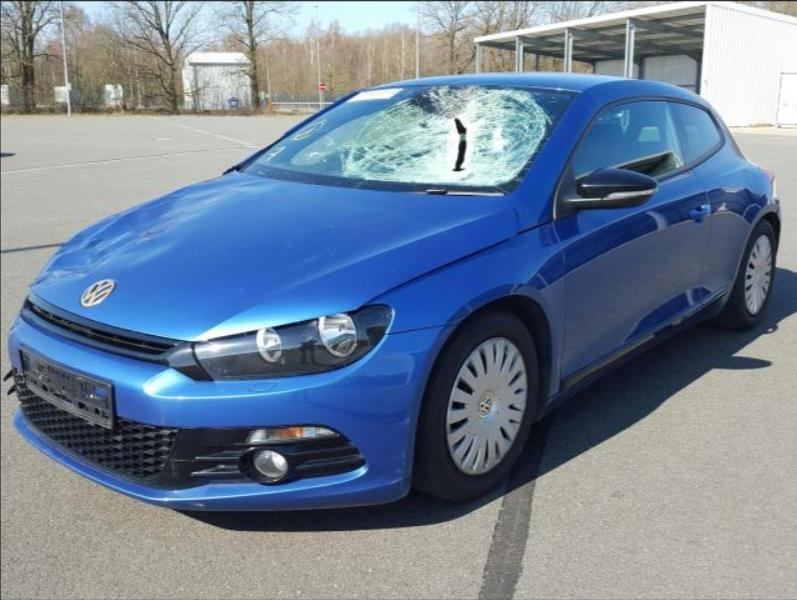Broken part: (241, 84, 567, 196)
Cracked: (239, 86, 573, 193)
Dent: (35, 189, 199, 289)
Scratch: (385, 412, 411, 498), (529, 268, 555, 294), (389, 475, 404, 484), (394, 468, 405, 474), (404, 416, 410, 426), (402, 448, 405, 461)
